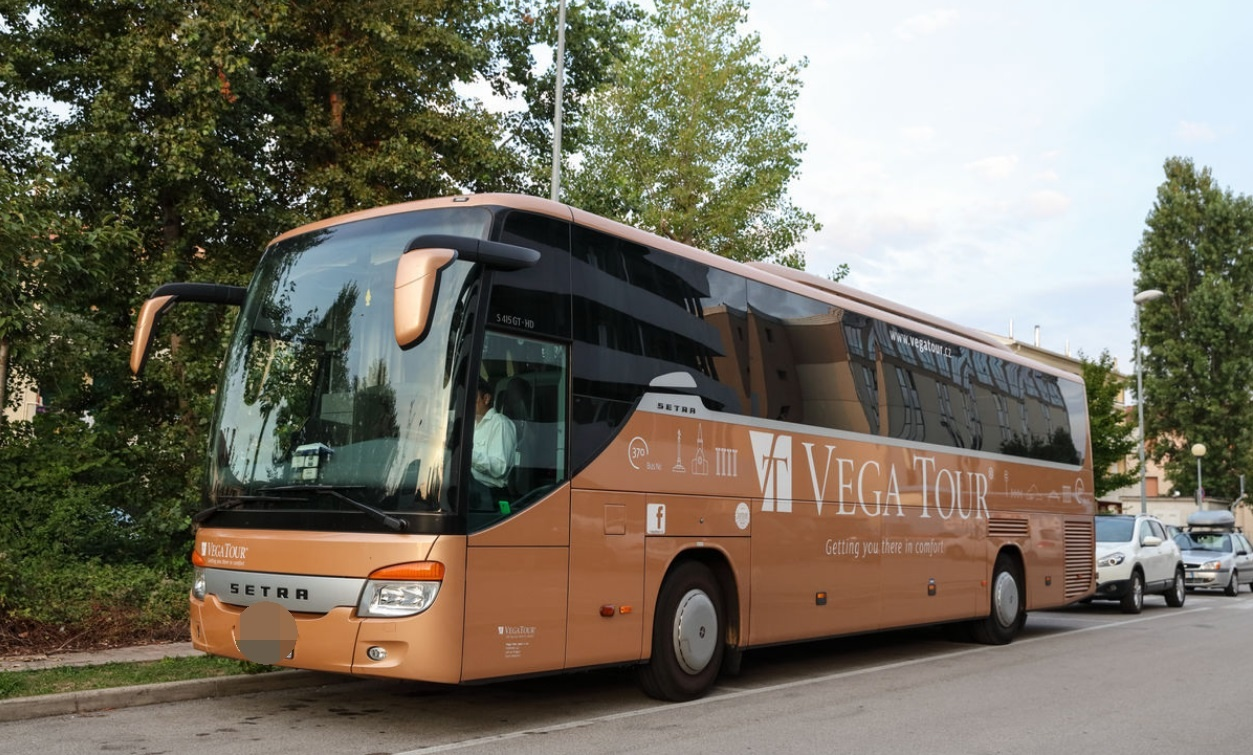bus: (138, 193, 1089, 705)
